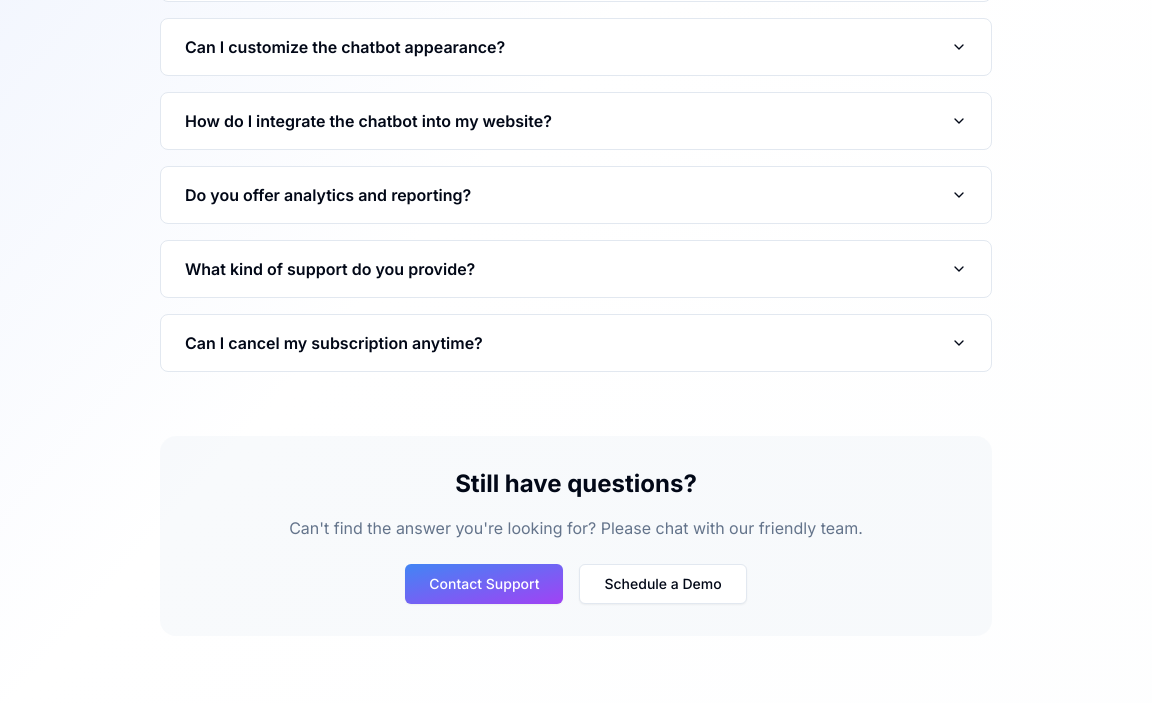
Scenario: FAQ › should display cancellation FAQ
(page scrolled)
What coordinates should you click on to do the following:
click the button "Can I cancel my subscription anytime?"
I would click on:
 (334, 343)
Its box is [185,315,967,371].
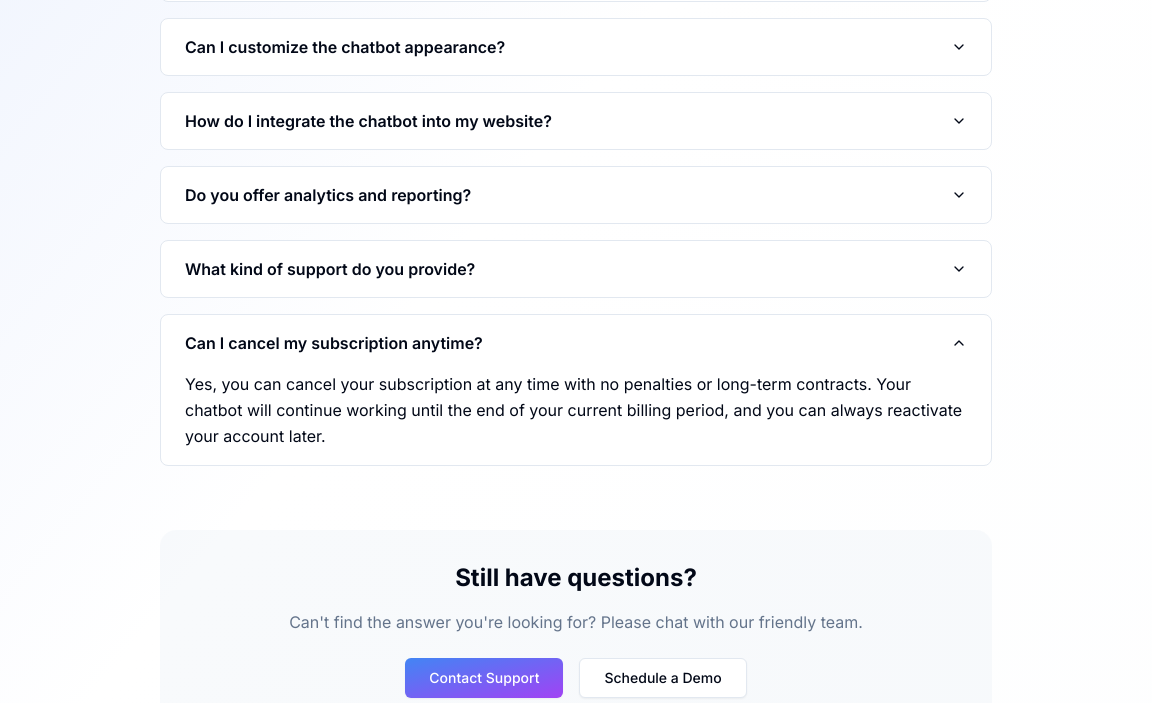
Check: the text "Yes, you can cancel your subscription at any time with no penalties or long-term contracts. Your chatbot will continue w" is shown, box [185,374,962,446]
